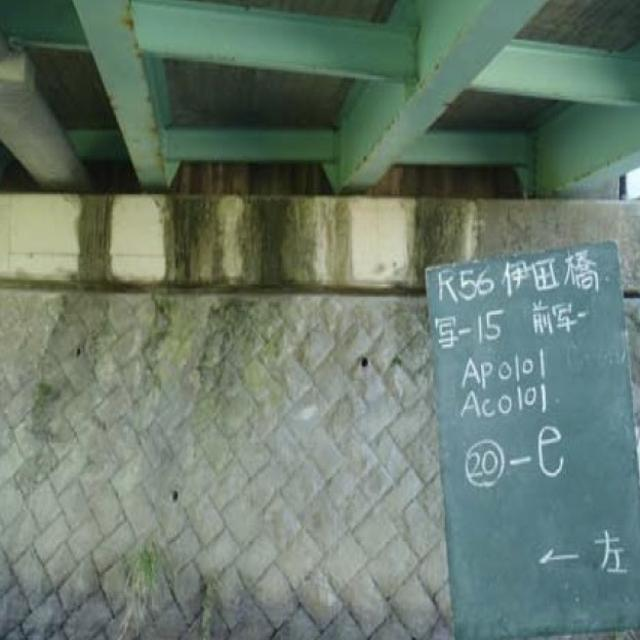leakage: (74, 175, 476, 322)
